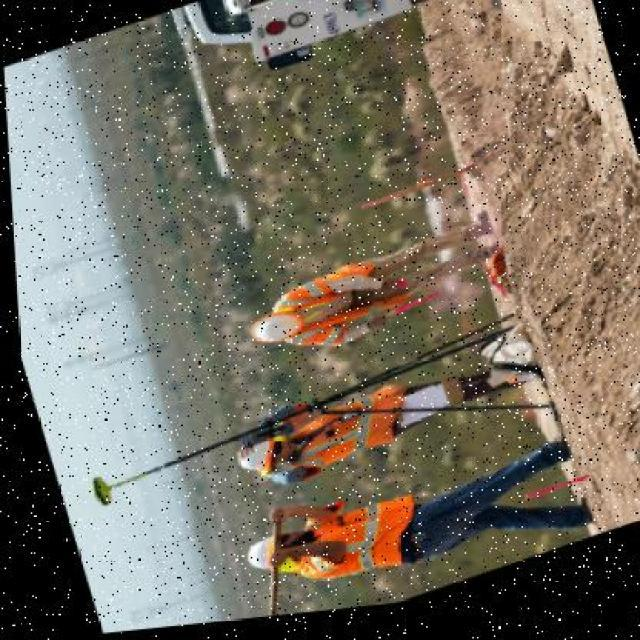helmet: (226, 522, 295, 589), (222, 429, 289, 489), (242, 309, 304, 354)
vest: (276, 386, 414, 483), (275, 503, 403, 604), (266, 260, 386, 365)
